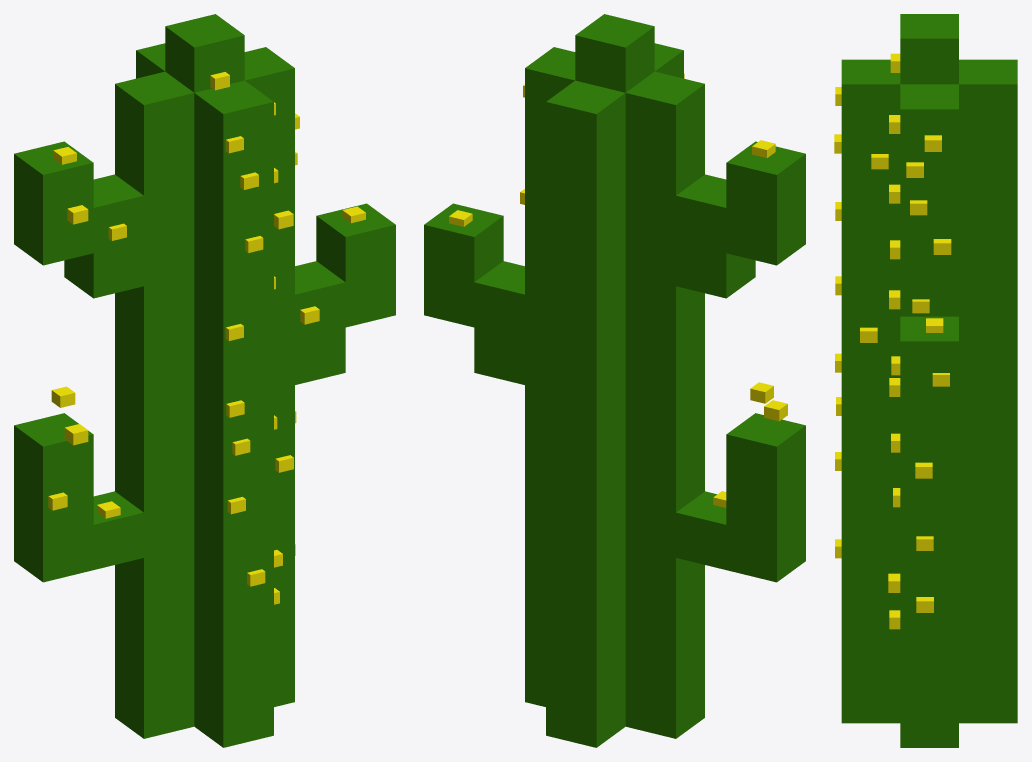
The model's file is cactus_4.fbx.
3 renders of one model, left to right at view 1: azimuth 30°, elevation 25°; view 2: azimuth 150°, elevation 25°; view 3: azimuth 270°, elevation 25°, orthographic.
Parts seen in each view (by area): view 1: Torus.010; view 2: Torus.010; view 3: Torus.010.
Part boxes in pixels (x1=…): Torus.010: x1=14, y1=14, x2=395, y2=747; Torus.010: x1=424, y1=14, x2=805, y2=747; Torus.010: x1=834, y1=14, x2=1017, y2=747.
Bounding box in the file's own units: 376 × 683 × 166.
